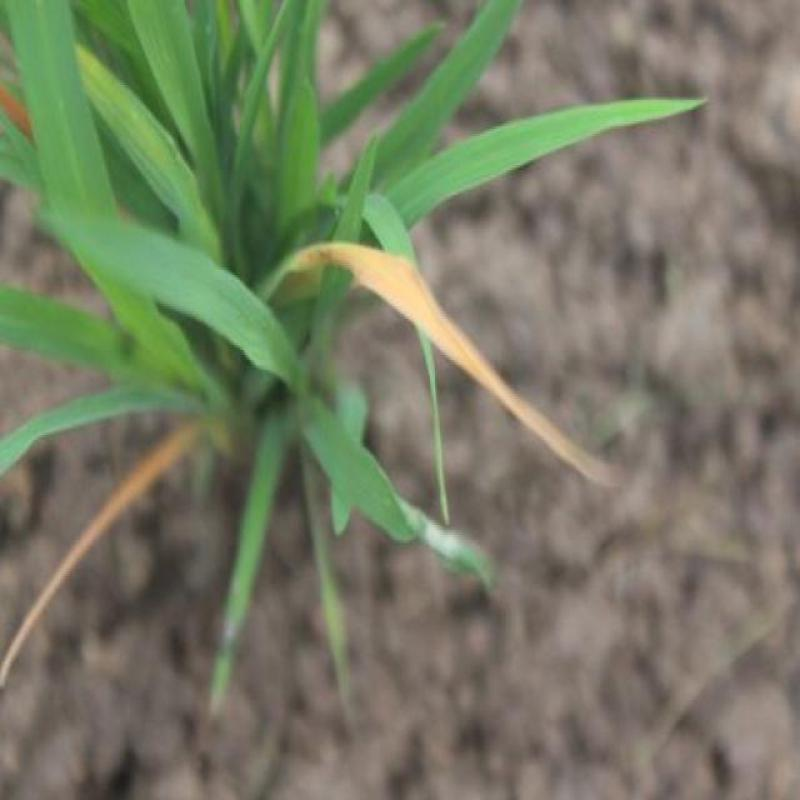Rice Tungro: (305, 224, 584, 465), (0, 430, 208, 652)
